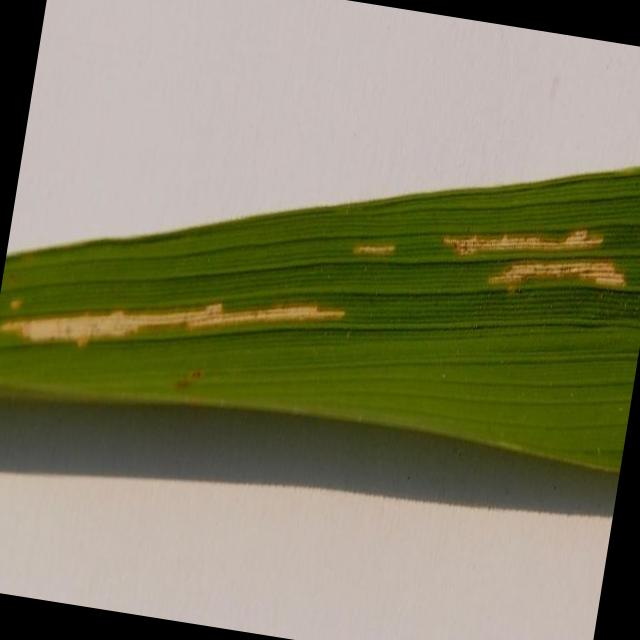Rice_Bacterial_Blight: (10, 246, 351, 356), (417, 201, 640, 342)
